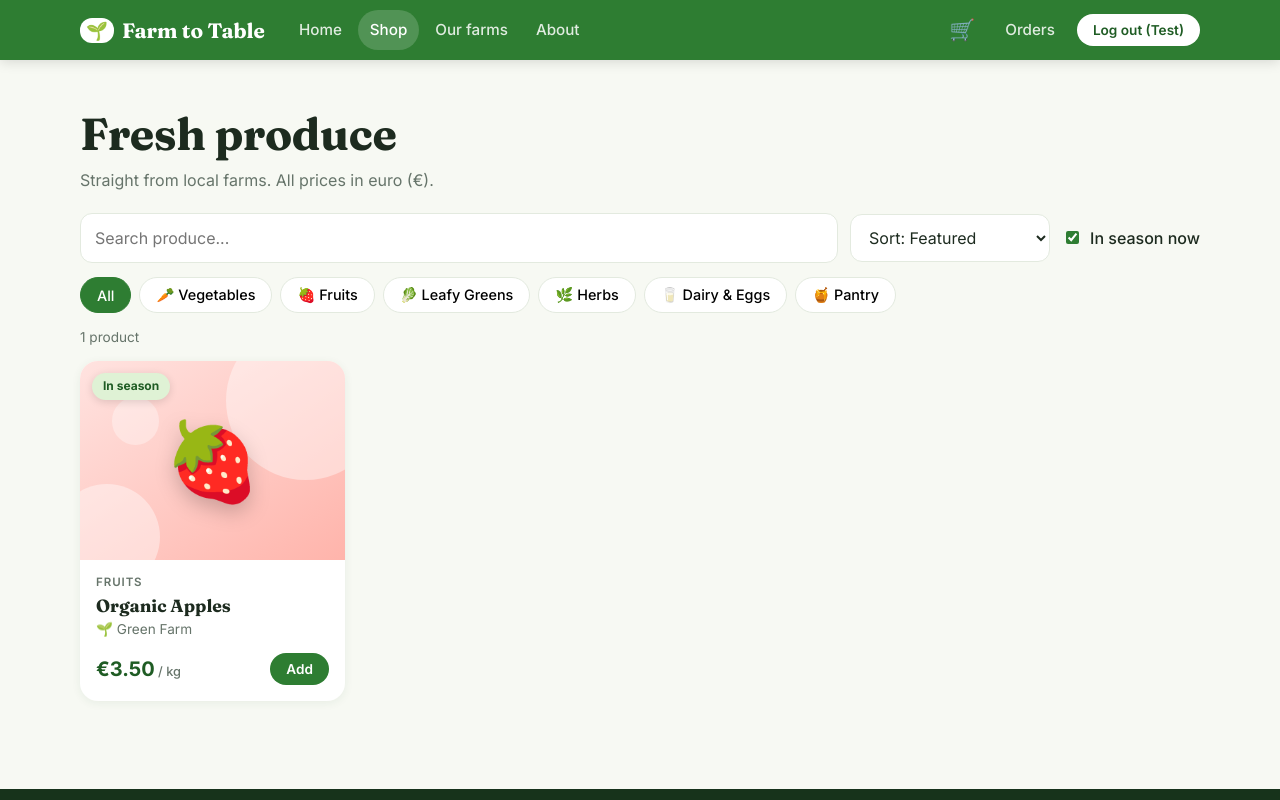
Test: Farm-to-Table Frontend Tests › 7. Calculates cart total correctly
Click the button "Add" at (300, 669), box [270, 653, 329, 685]
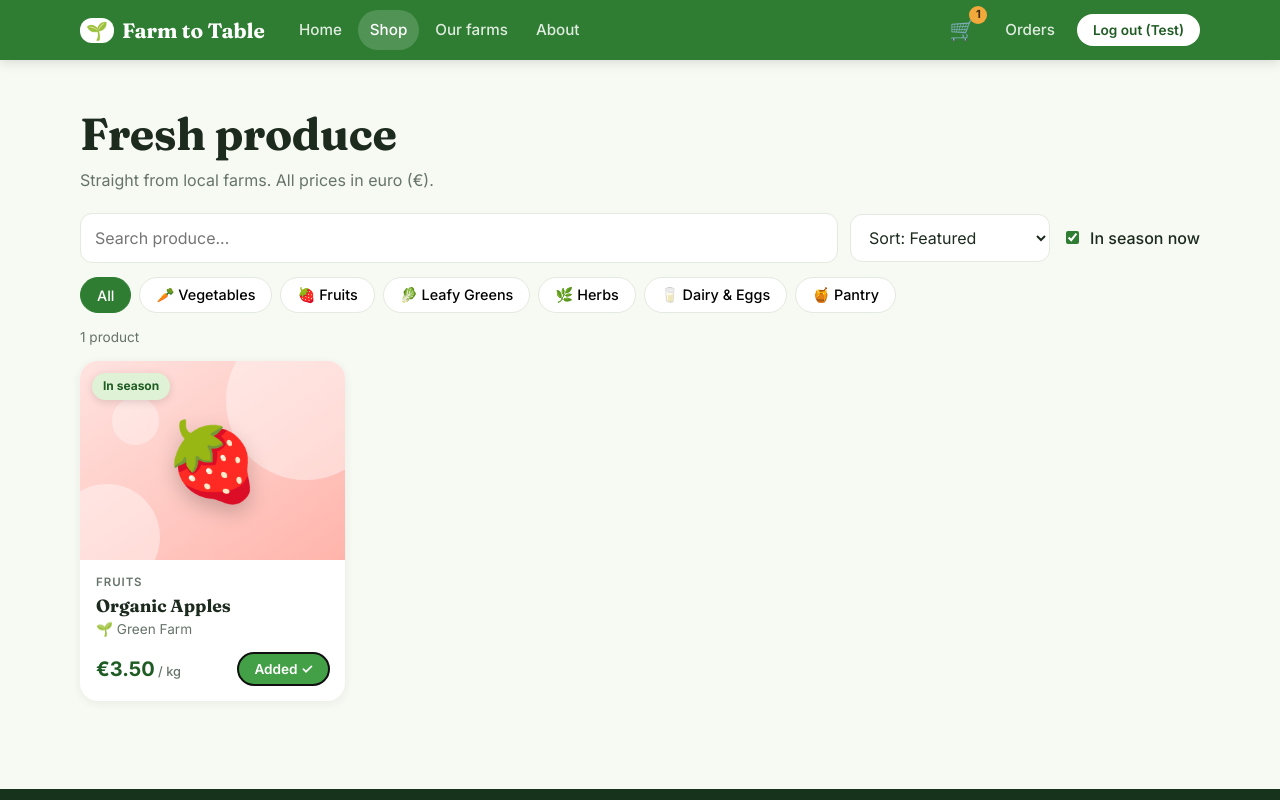
Click the link named "Cart" at (962, 30), box [941, 10, 983, 50]
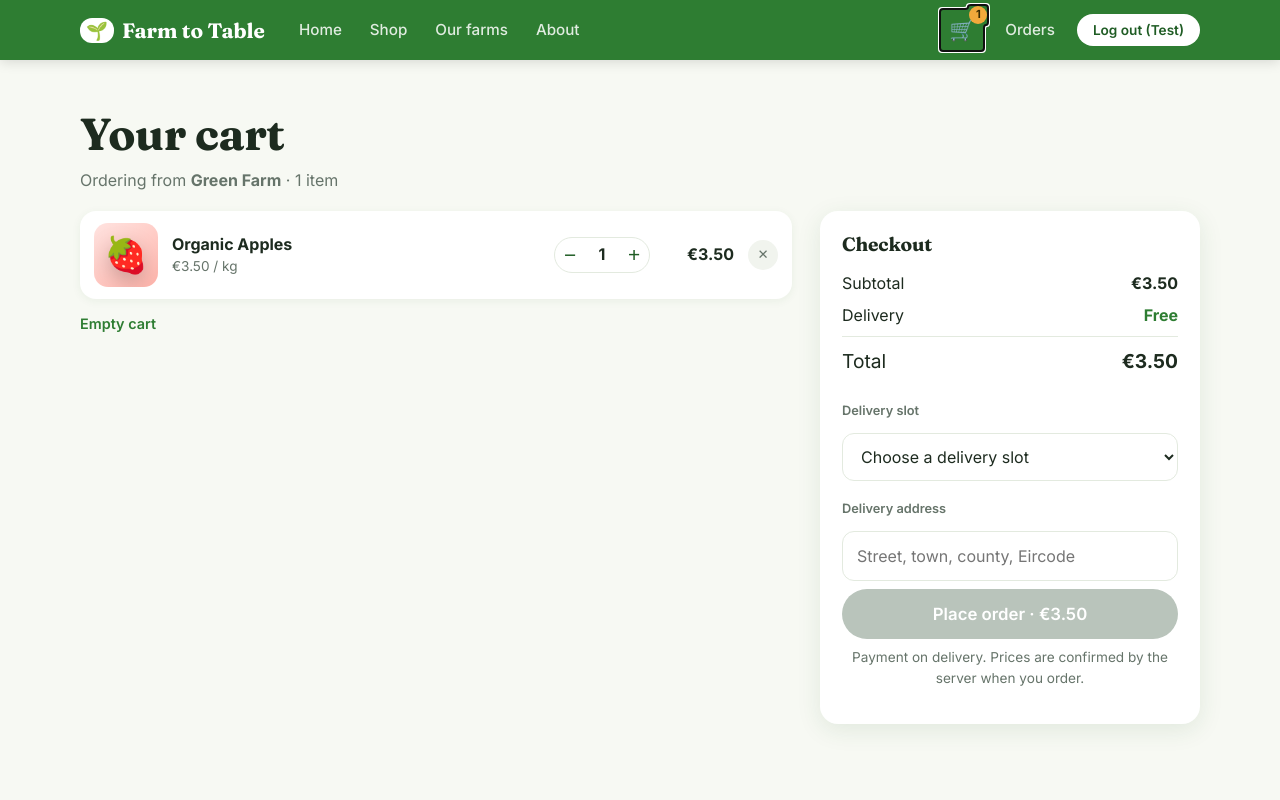
Click the button "+" at (634, 254), box [619, 238, 649, 272]
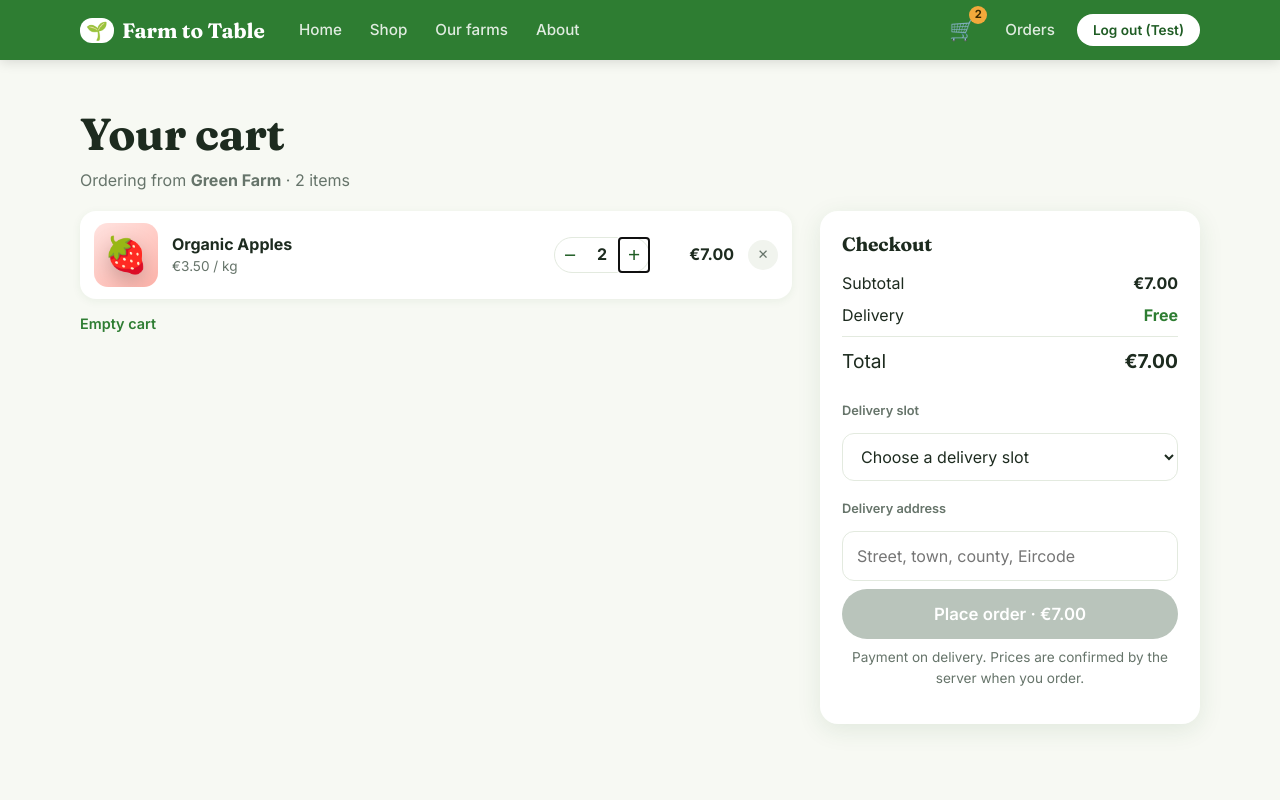
Expected: the link named "Cart" shows "2", [941, 10, 983, 50]
